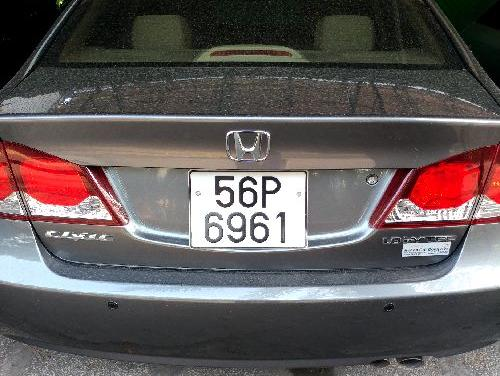lisence: (185, 168, 312, 253)
